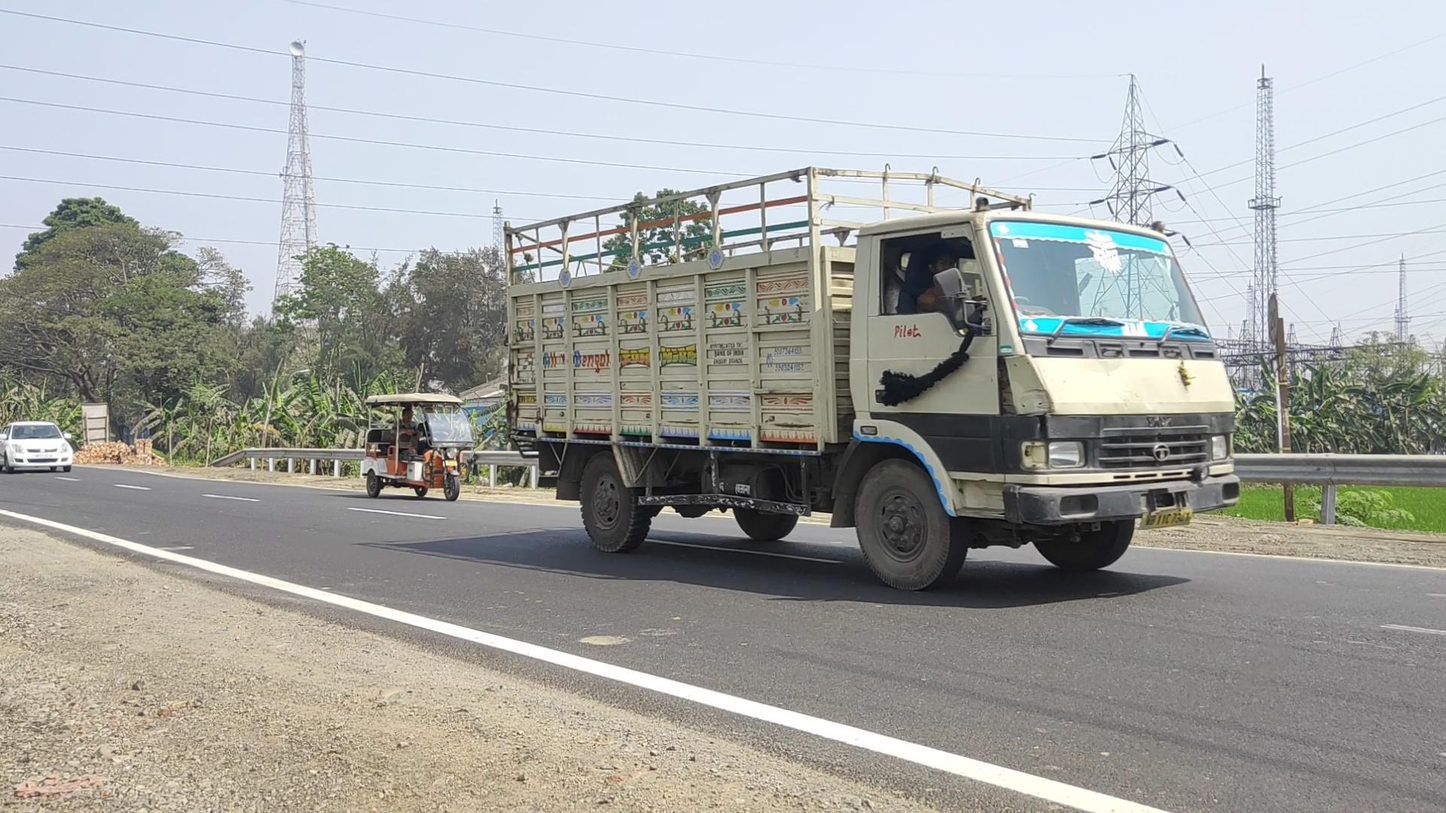Auto: (362, 393, 475, 501)
car: (2, 421, 72, 475)
truck: (502, 165, 1240, 592)
